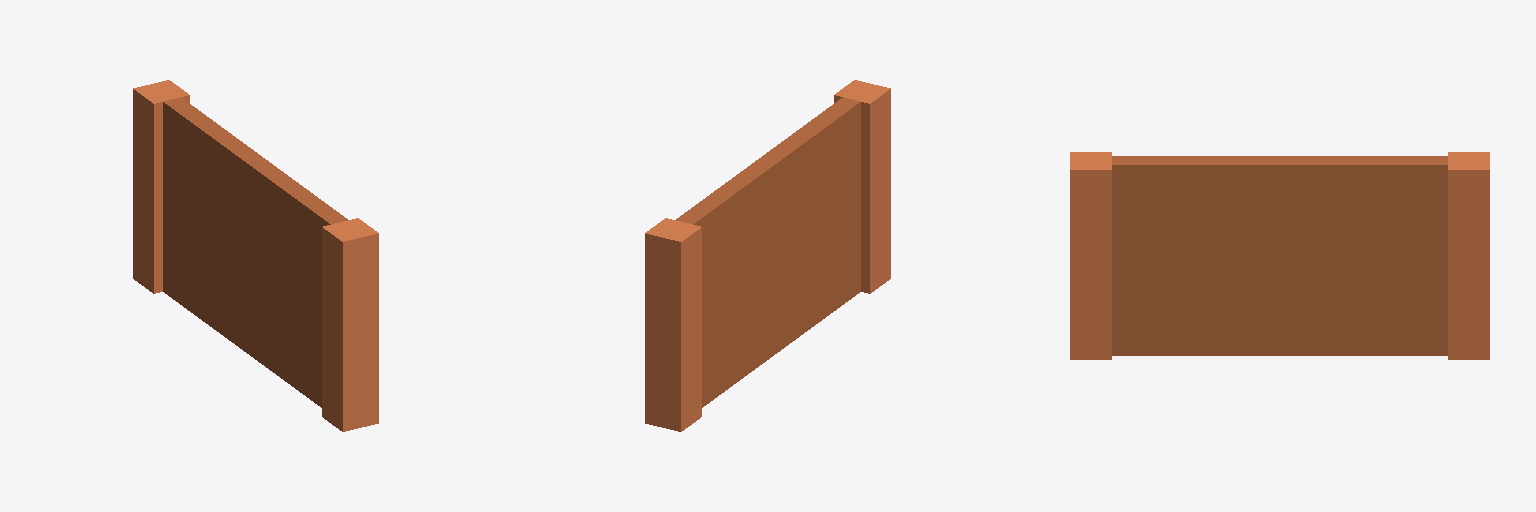
Rendered from wallWoodHalf.obj.
The picture shows the model from 3 angles: view 1: azimuth 30°, elevation 25°; view 2: azimuth 150°, elevation 25°; view 3: azimuth 270°, elevation 25°; orthographic projection.
Parts seen in each view (by area): view 1: wallWoodHalf; view 2: wallWoodHalf; view 3: wallWoodHalf.
Part boxes in pixels (x1,y1,x2,y2): wallWoodHalf: (133,80,378,431); wallWoodHalf: (645,80,890,431); wallWoodHalf: (1070,152,1489,359).
Bounding box in the file's own units: 0.1 × 0.5 × 1.